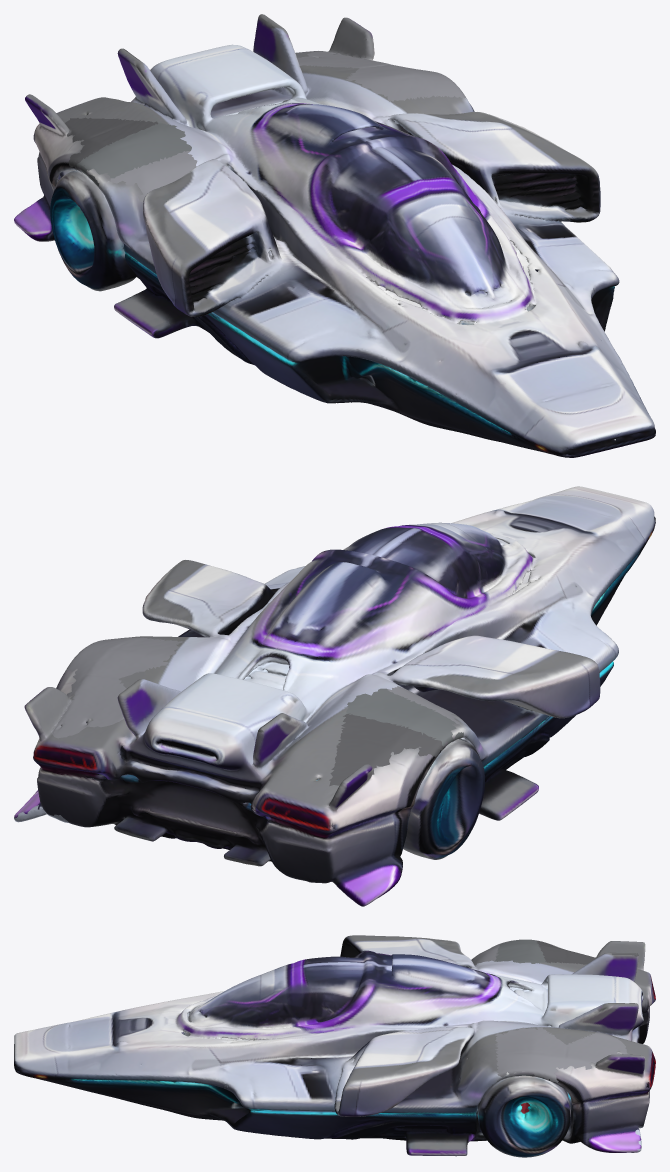
The model's file is flycar_fixed.glb.
The picture shows the model from 3 angles, top to bottom: view 1: azimuth 30°, elevation 25°; view 2: azimuth 150°, elevation 25°; view 3: azimuth 270°, elevation 25°; orthographic projection. The views are drawn at different scales.
Visible parts, largest first — view 1: tripo_node_d819d040-fc13-4122-9ea0-0877467df83d; view 2: tripo_node_d819d040-fc13-4122-9ea0-0877467df83d; view 3: tripo_node_d819d040-fc13-4122-9ea0-0877467df83d.
Part boxes in pixels (left/top/right/bottom): tripo_node_d819d040-fc13-4122-9ea0-0877467df83d: left=14, top=14, right=655, bottom=457; tripo_node_d819d040-fc13-4122-9ea0-0877467df83d: left=14, top=486, right=655, bottom=906; tripo_node_d819d040-fc13-4122-9ea0-0877467df83d: left=14, top=935, right=655, bottom=1157.
Size of the model in its own units: 0.5529 by 0.2552 by 1.
1 material, 1 textured.
